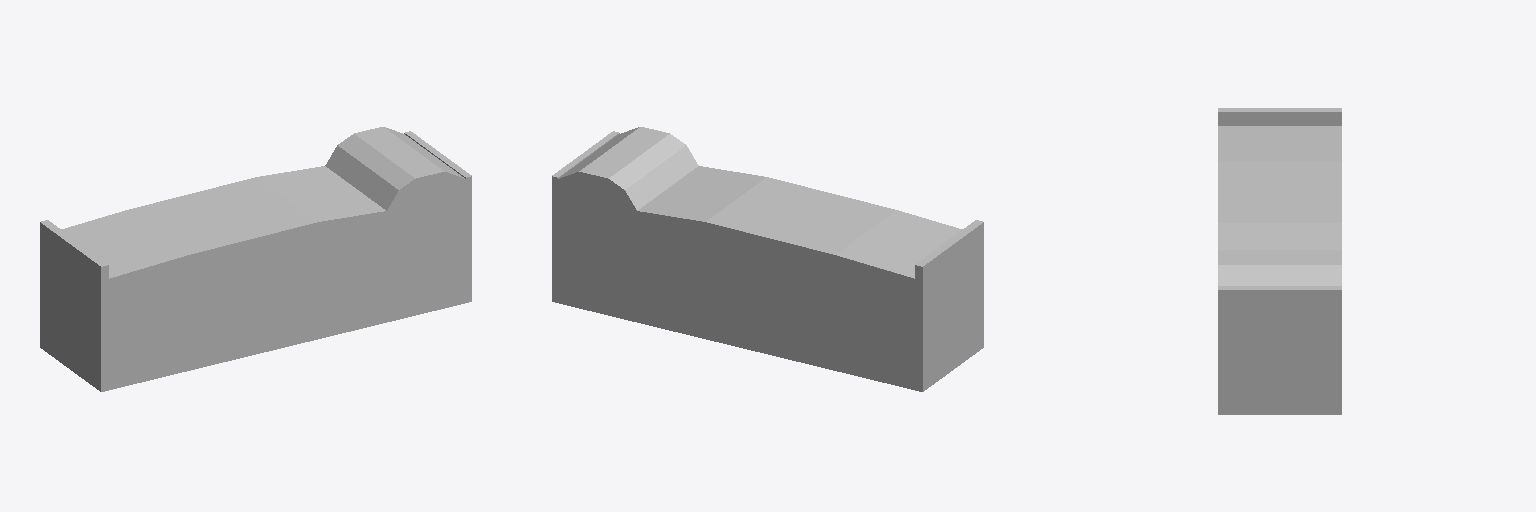
File: roughBed.obj
3 views of the same model, side by side, from view 1: azimuth 30°, elevation 25°; view 2: azimuth 150°, elevation 25°; view 3: azimuth 270°, elevation 25° (orthographic).
Parts seen in each view (by area): view 1: Cube_Cube.001; view 2: Cube_Cube.001; view 3: Cube_Cube.001.
Boxes of the visible parts, box(x1,y1,x2,y2) form: Cube_Cube.001: box(40, 127, 471, 391); Cube_Cube.001: box(552, 127, 983, 391); Cube_Cube.001: box(1218, 108, 1341, 414).
Bounding box in the file's own units: 2.83 × 0.9989 × 0.8144.